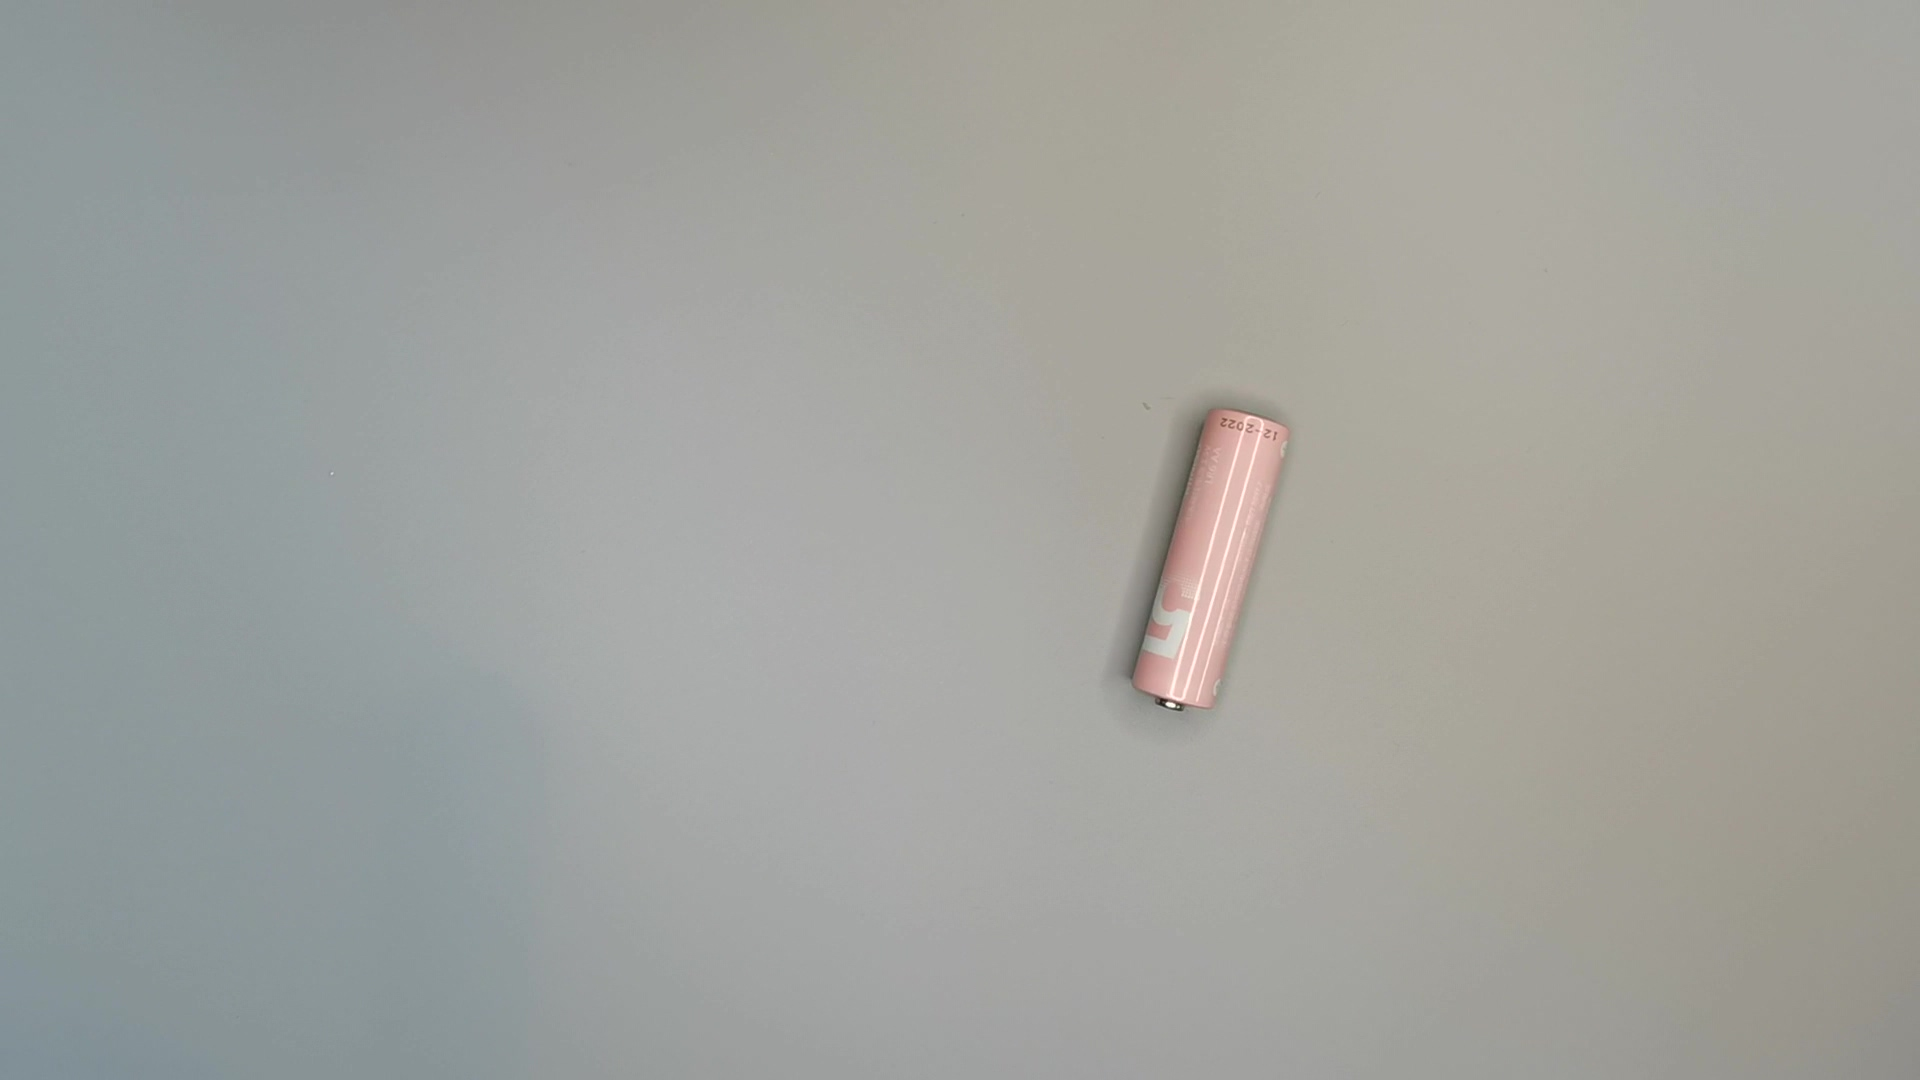battery: (1117, 400, 1299, 727)
